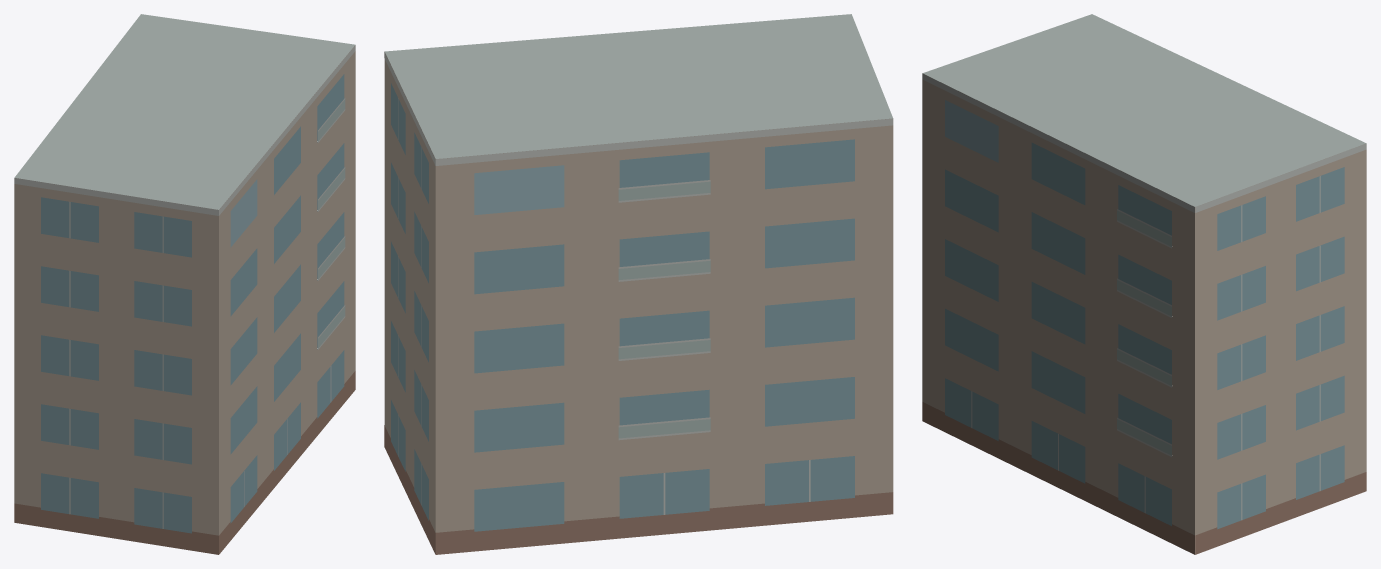
Rendered from survey-upis-32885930.glb.
3 views of the same model, side by side, from view 1: azimuth 30°, elevation 25°; view 2: azimuth 150°, elevation 25°; view 3: azimuth 270°, elevation 25° (orthographic). The views are drawn at different scales.
Parts seen in each view (by area): view 1: survey-upis-32885930.tmp; view 2: survey-upis-32885930.tmp; view 3: survey-upis-32885930.tmp.
Boxes of the visible parts, bbox=[...] form: survey-upis-32885930.tmp: bbox=[14, 14, 355, 554]; survey-upis-32885930.tmp: bbox=[384, 14, 893, 554]; survey-upis-32885930.tmp: bbox=[922, 14, 1366, 554].
Bounding box in the file's own units: 16.43 × 13.8 × 15.98.
